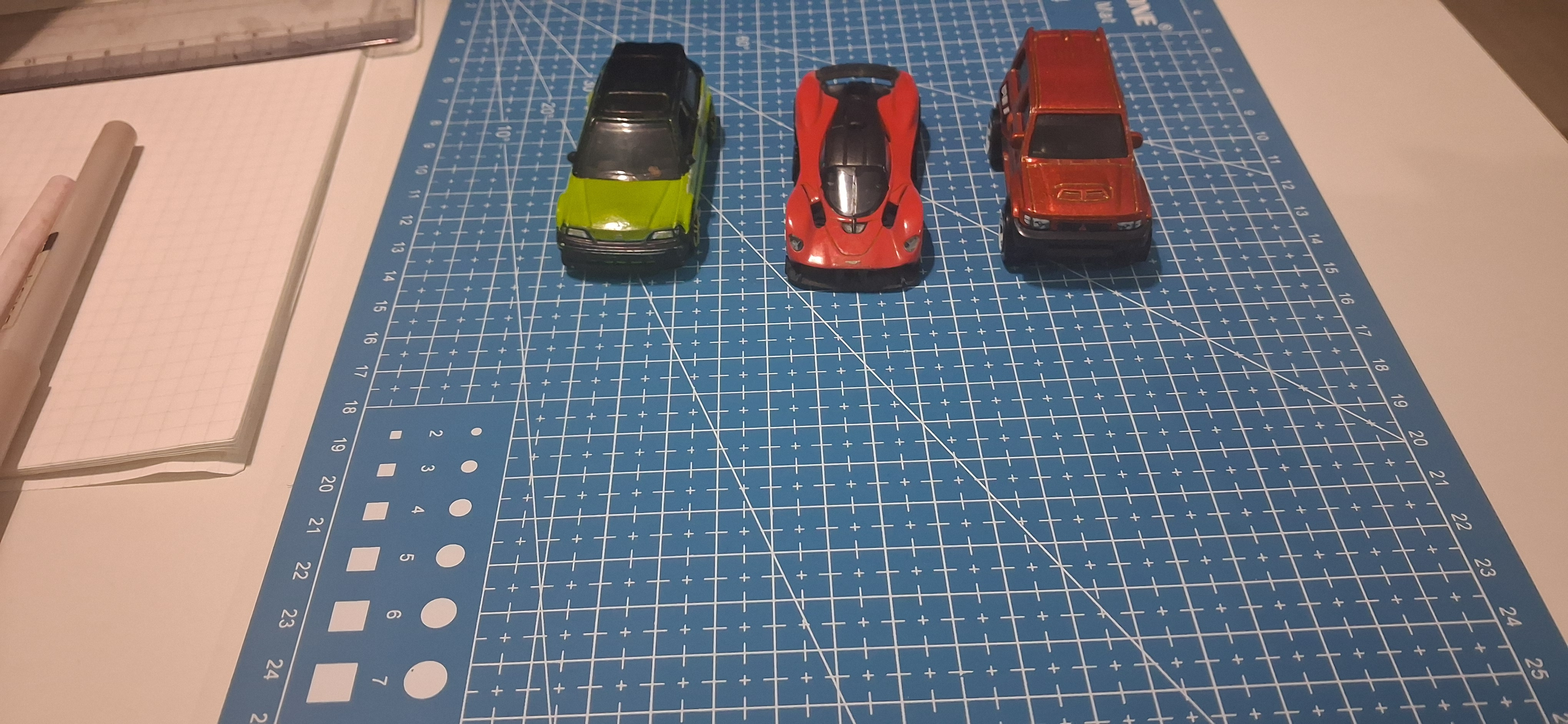Aston_Martin_Valkyrie: (779, 32, 965, 322)
Honda_Civic: (559, 6, 745, 312)
Mitsubishi_Pajero_Evolution: (978, 16, 1182, 319)
